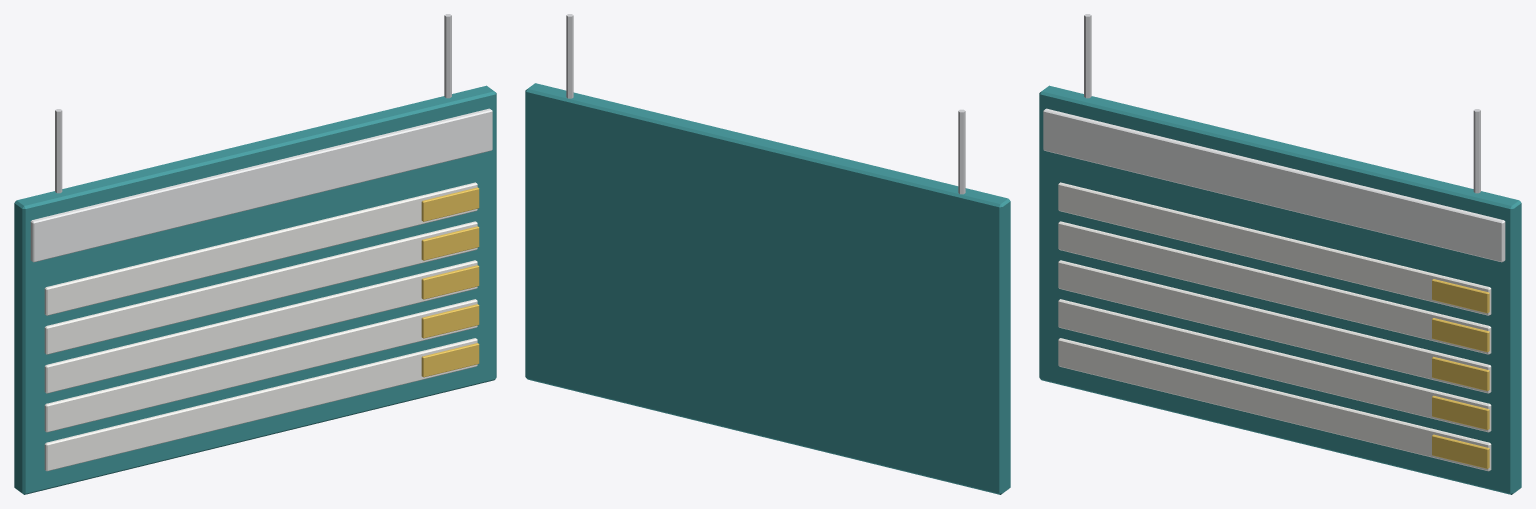
The model's file is dry-cleaners-and-alterations-shop-price-and-service-bo-6de9897d__34941.glb.
3 views of the same model, side by side, from view 1: azimuth 30°, elevation 25°; view 2: azimuth 150°, elevation 25°; view 3: azimuth 330°, elevation 25° (orthographic).
Visible parts, largest first — view 1: price-and-service-board; view 2: price-and-service-board; view 3: price-and-service-board.
Part boxes in pixels (x1,y1,x2,y2): price-and-service-board: [14, 14, 496, 494]; price-and-service-board: [525, 14, 1010, 494]; price-and-service-board: [1039, 14, 1521, 494].
Size of the model in its own units: 1.34 by 1 by 0.066.
